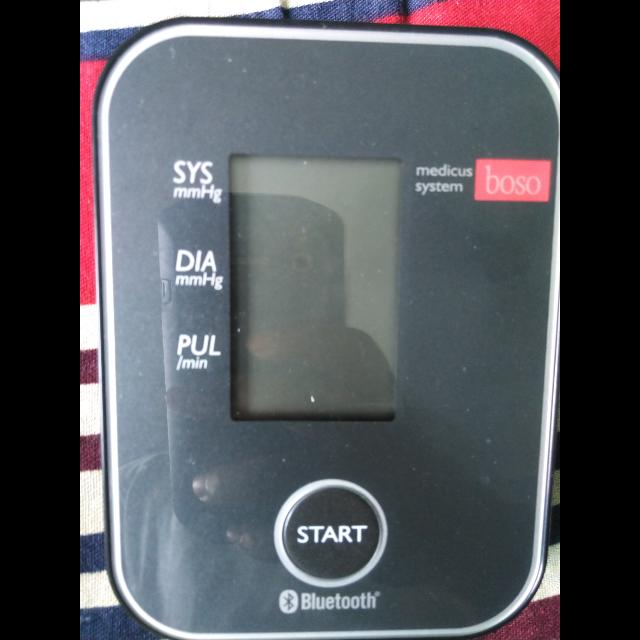Blood-Pressure-Monitor: (96, 22, 560, 640)
